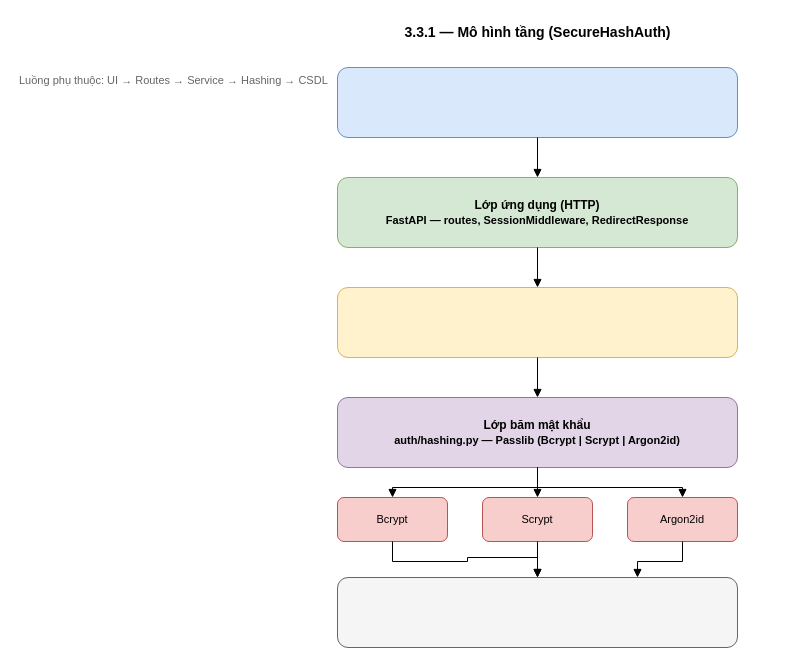
Image size: 794x665. Some labels were removed from this diagram. The shapes that lost their labels are listed below. From the top down, each one's box as (x1, y1, x2, y2) in pixels, then its label:
(336, 66, 738, 138): Lớp trình bày Web UI — Jinja2 templates, form POST, static CSS
(336, 286, 738, 358): Lớp nghiệp vụ xác thực auth/service.py — register_user, authenticate
(336, 576, 738, 648): Lớp dữ liệu SQLAlchemy ORM — SQLite (data/app.db), bảng users
